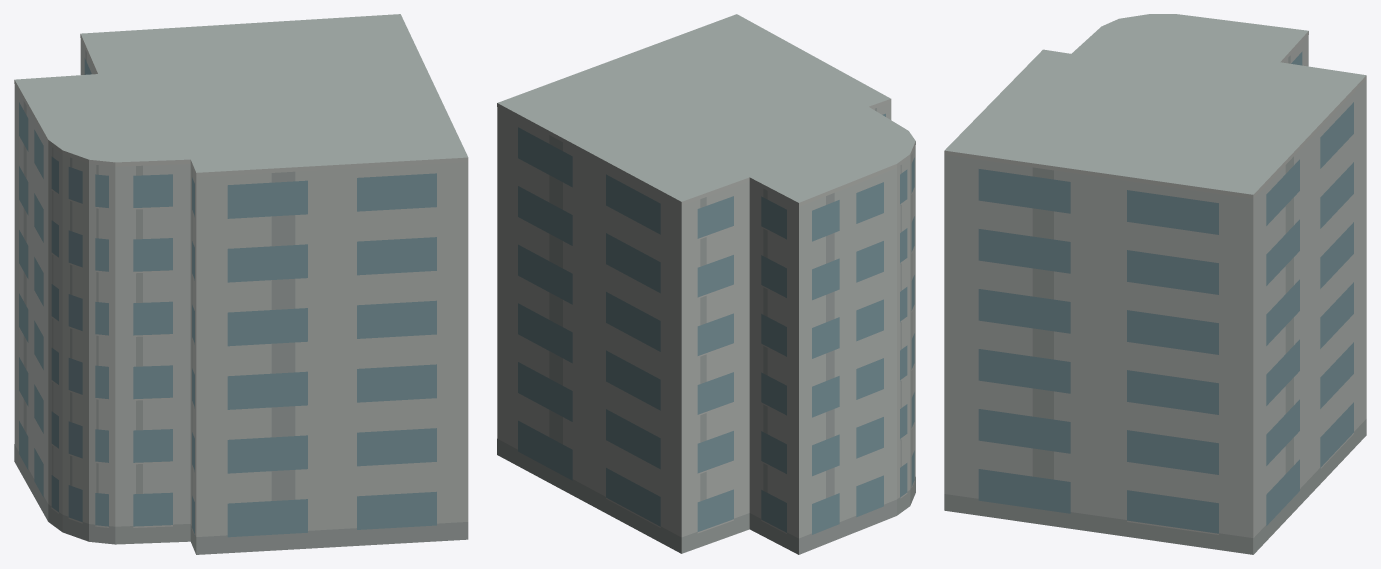
File: survey-upis-32794282.glb
3 views of the same model, side by side, from view 1: azimuth 30°, elevation 25°; view 2: azimuth 150°, elevation 25°; view 3: azimuth 270°, elevation 25° (orthographic). The views are drawn at different scales.
Visible parts, largest first — view 1: survey-upis-32794282.tmp; view 2: survey-upis-32794282.tmp; view 3: survey-upis-32794282.tmp.
Part boxes in pixels (box(x1,y1,x2,y2)): survey-upis-32794282.tmp: box(14, 14, 468, 554); survey-upis-32794282.tmp: box(497, 14, 915, 554); survey-upis-32794282.tmp: box(944, 14, 1366, 554).
Size of the model in its own units: 22.74 by 21.1 by 22.43.
